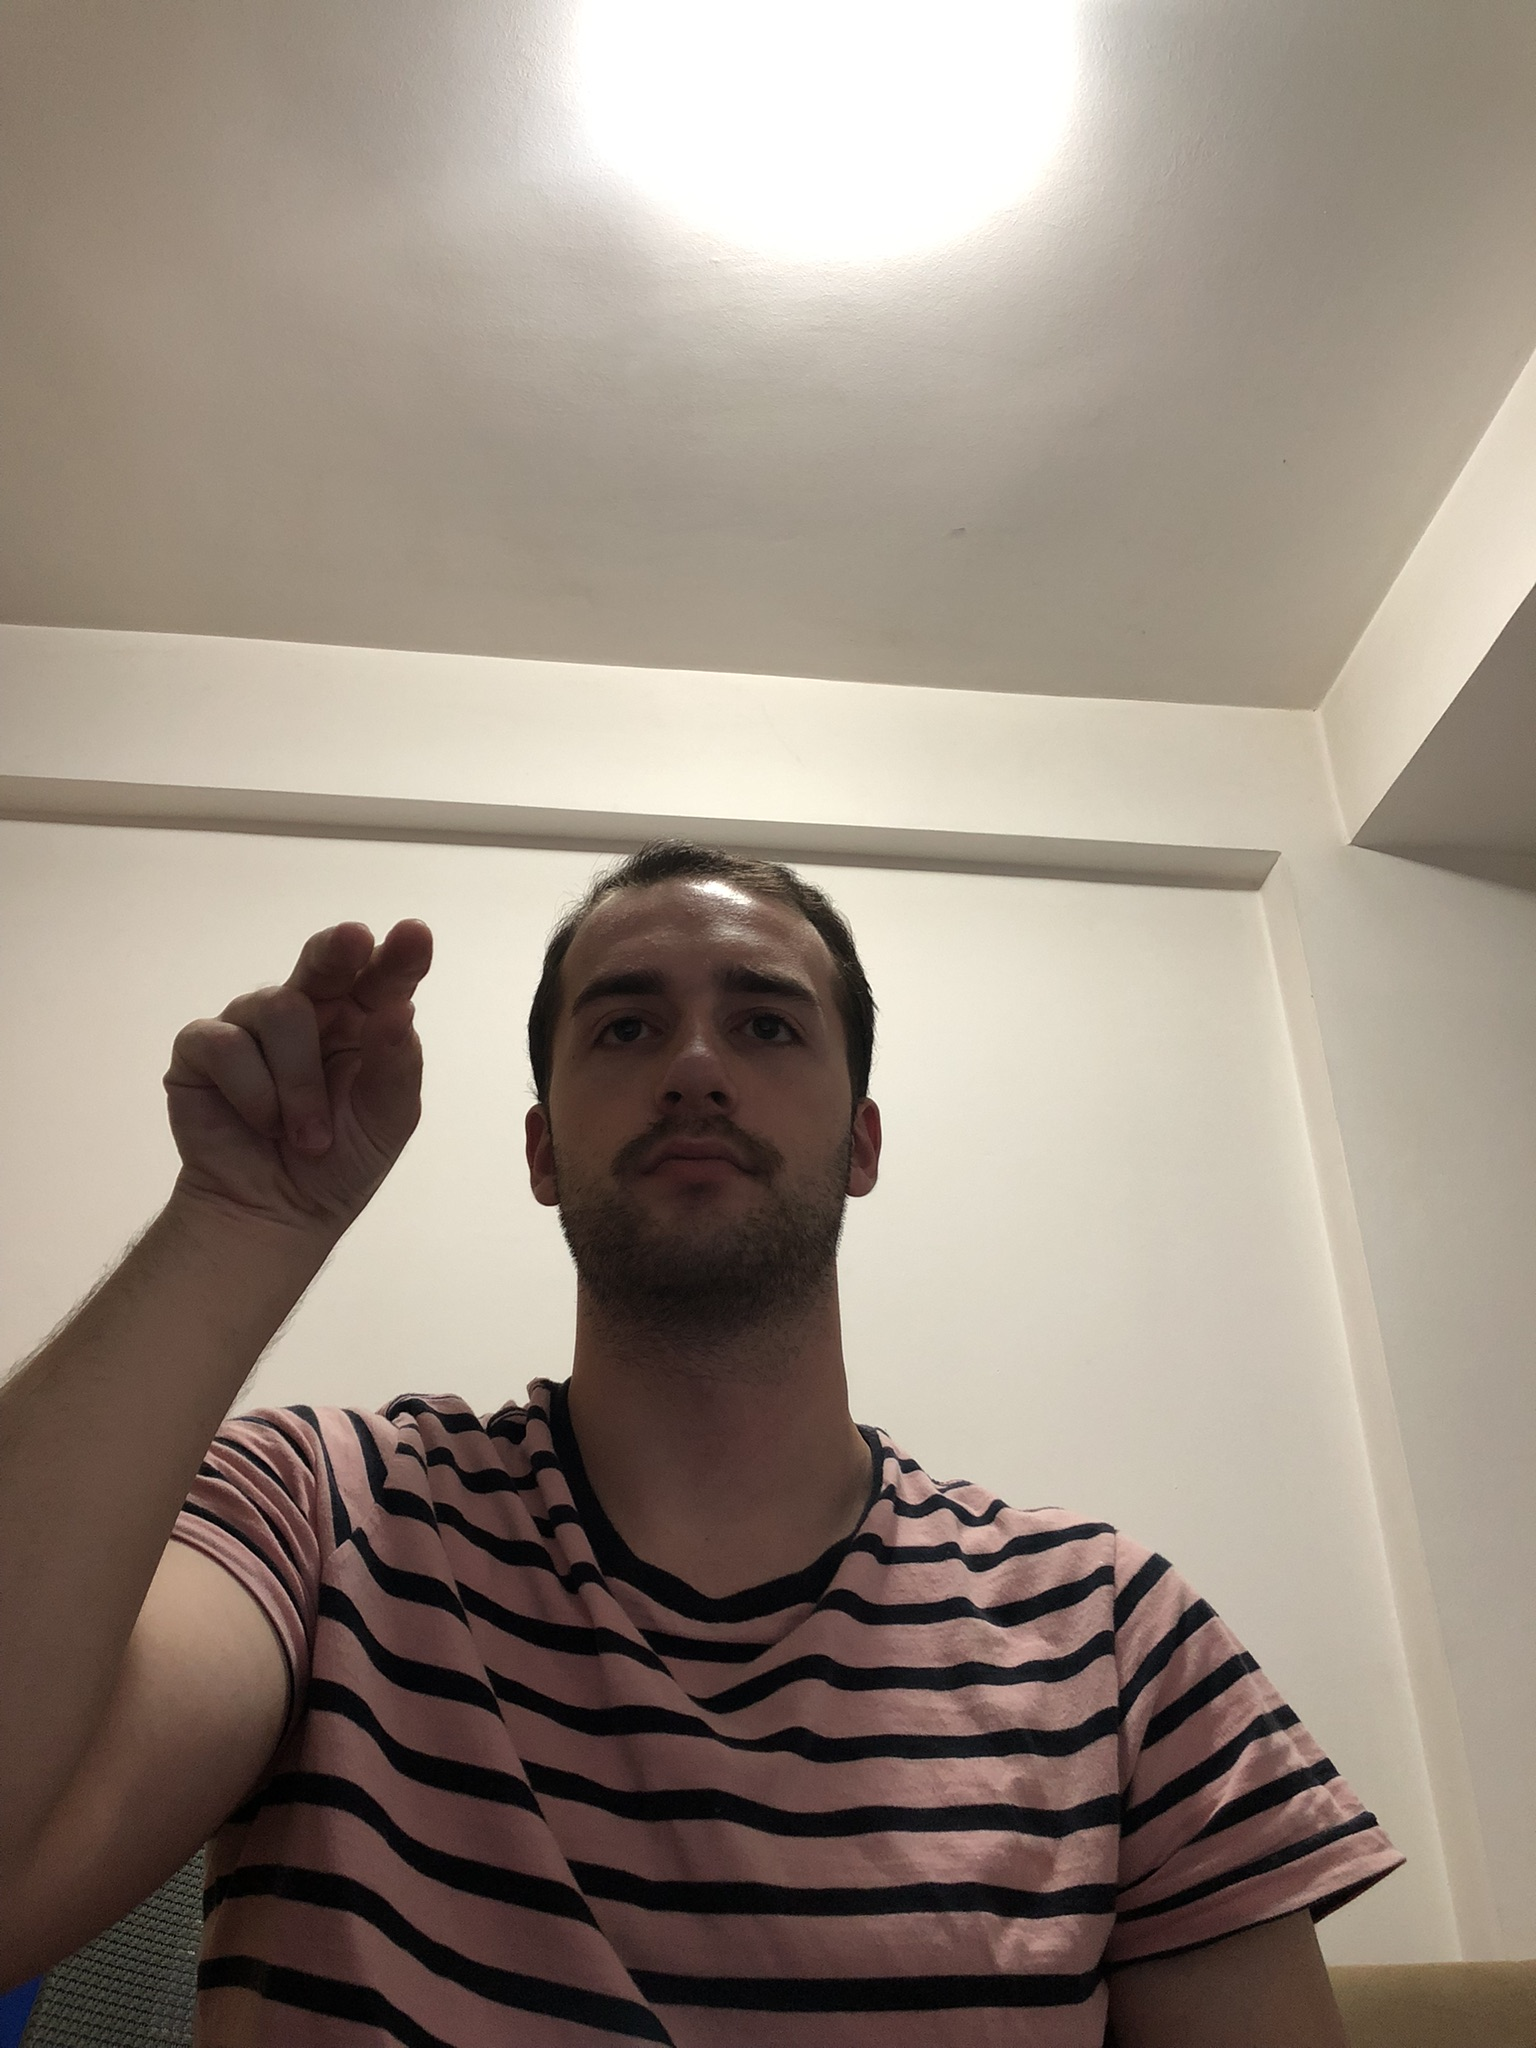No: (157, 908, 440, 1263)
